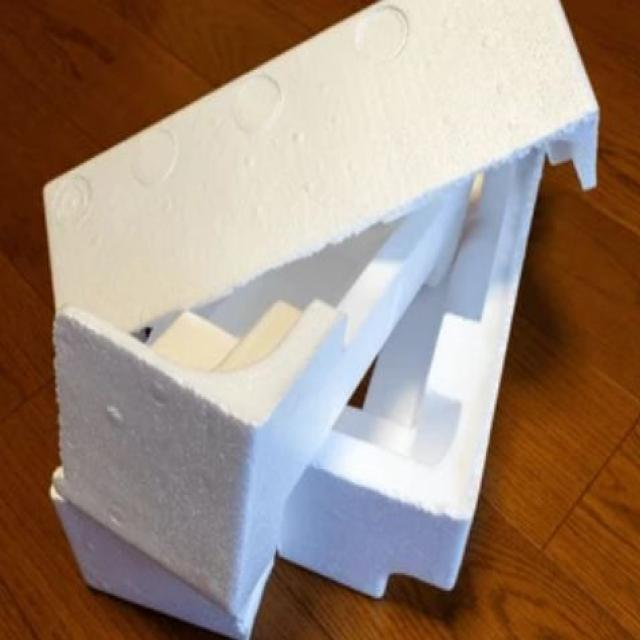electronic: (40, 0, 599, 638)
